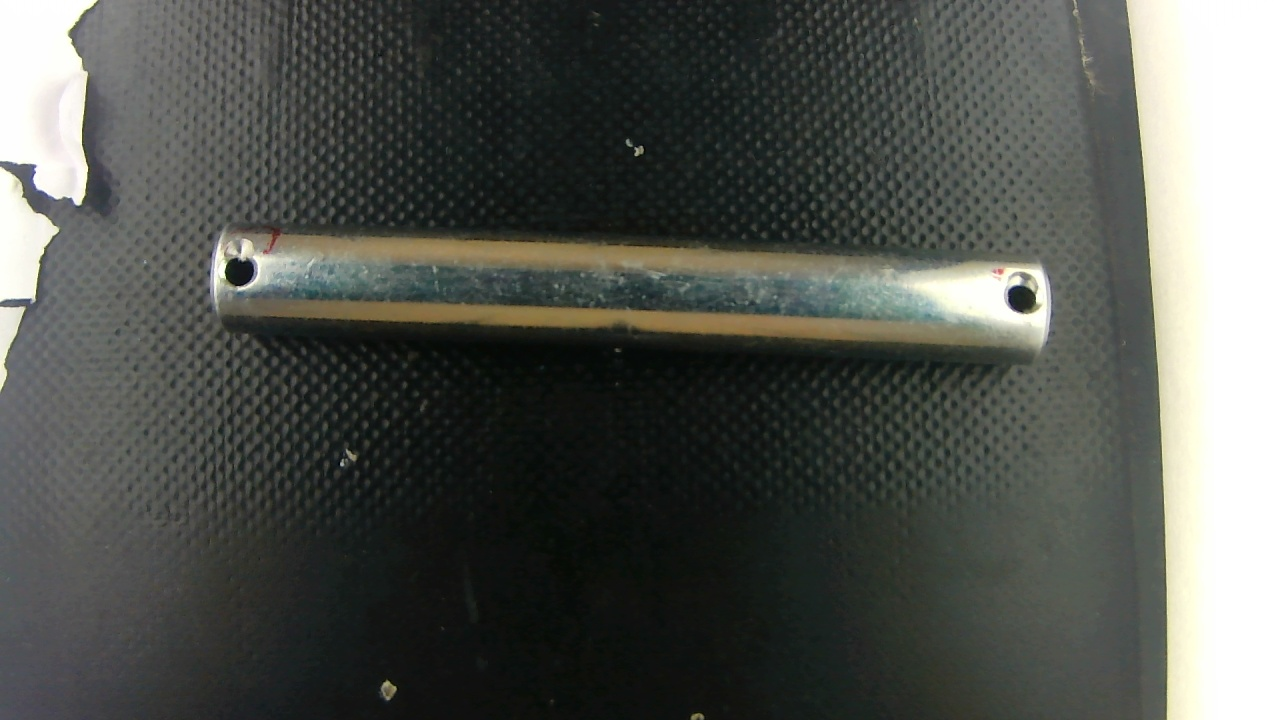drill touch_pin: (996, 268, 1054, 312)
